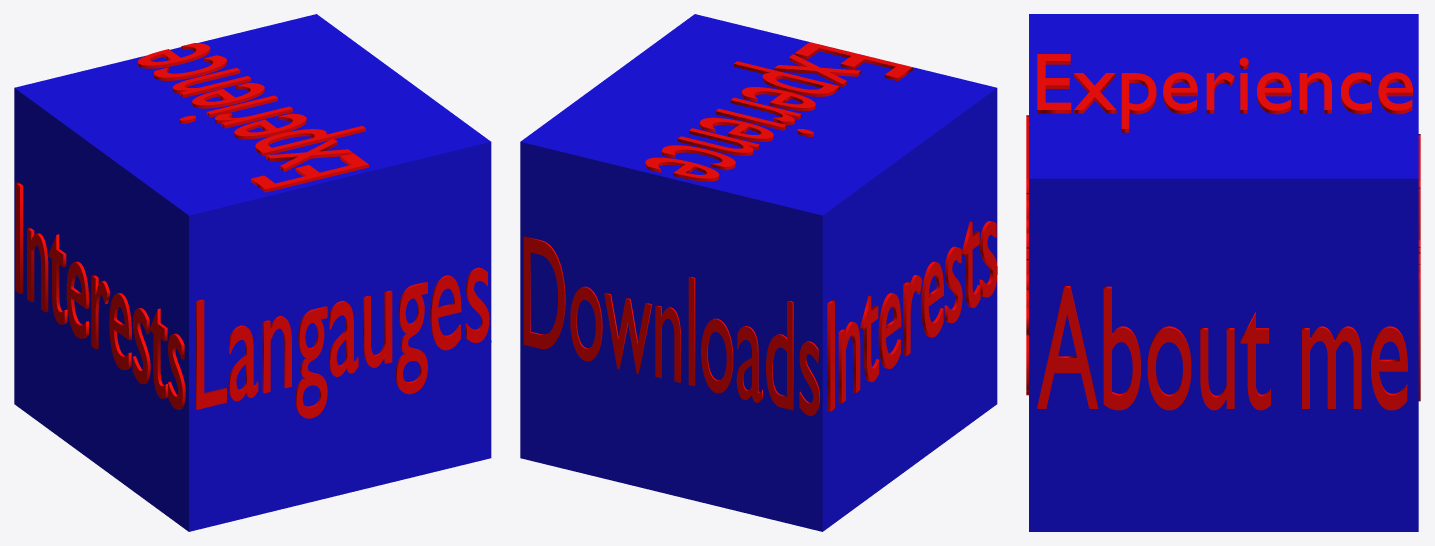
3 renders of one model, left to right at view 1: azimuth 30°, elevation 25°; view 2: azimuth 150°, elevation 25°; view 3: azimuth 270°, elevation 25°, orthographic. The views are drawn at different scales.
Visible parts, largest first — view 1: Cube, lang, Text, Links; view 2: Cube, Download, Text, Links; view 3: Cube, Text.001, Text, lang, Download.
Boxes of the visible parts, x1,y1,x2,y2 form: Cube: (14,14,491,531); lang: (196,267,489,418); Text: (137,43,368,192); Links: (15,182,185,409); Cube: (520,14,997,531); Download: (523,236,819,415); Text: (645,42,912,181); Links: (827,221,997,411); Cube: (1029,14,1418,531); Text.001: (1037,286,1407,410); Text: (1037,54,1412,132); lang: (1026,115,1028,395); Download: (1418,134,1420,401).
Size of the model in its own units: 2.05 by 2.04 by 2.02.
